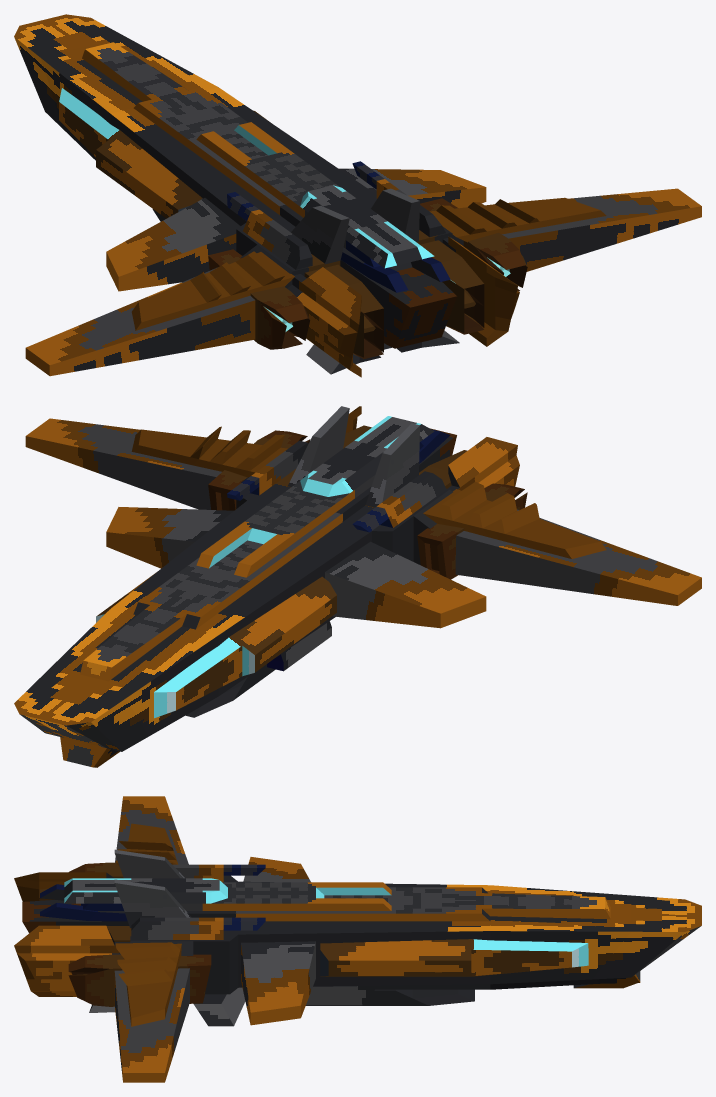
File: npcShip1.glb
3 renders of one model, top to bottom at view 1: azimuth 30°, elevation 25°; view 2: azimuth 150°, elevation 25°; view 3: azimuth 270°, elevation 25°, orthographic. The views are drawn at different scales.
Visible parts, largest first — view 1: body_16, wing 1_30, cuboid_3, wing 2_32, wing 3_31, cuboid_0, cuboid_20, cuboid_18, cuboid_21, cuboid_25, wing 4_33, cuboid_14 (+7 smaller); view 2: body_16, wing 1_30, cuboid_3, wing 3_31, cuboid_0, wing 2_32, cuboid_20, wing 4_33, cuboid_21, cuboid_18, cuboid_4, cuboid_25 (+5 smaller); view 3: body_16, cuboid_1, cuboid_3, wing 4_33, wing 2_32, cuboid_22, cuboid_21, cuboid_28, cuboid_5, cuboid_23, wing 1_30, cuboid_6 (+6 smaller).
Part boxes in pixels (<box>): body_16: <box>14,14,463,374</box>; wing 1_30: <box>25,267,255,376</box>; cuboid_3: <box>196,122,434,268</box>; wing 2_32: <box>502,188,701,271</box>; wing 3_31: <box>106,198,240,291</box>; cuboid_0: <box>59,88,202,218</box>; cuboid_20: <box>131,251,294,330</box>; cuboid_18: <box>287,267,361,377</box>; cuboid_21: <box>429,197,606,242</box>; cuboid_25: <box>208,249,310,349</box>; wing 4_33: <box>339,168,486,208</box>; cuboid_14: <box>420,240,484,334</box>; body_16: <box>14,428,456,767</box>; wing 1_30: <box>455,509,701,605</box>; cuboid_3: <box>196,416,434,577</box>; wing 3_31: <box>325,541,486,628</box>; cuboid_0: <box>154,576,336,718</box>; wing 2_32: <box>25,418,221,509</box>; cuboid_20: <box>423,481,606,558</box>; wing 4_33: <box>106,507,233,568</box>; cuboid_21: <box>131,426,287,477</box>; cuboid_18: <box>447,437,519,491</box>; cuboid_4: <box>366,423,419,507</box>; cuboid_25: <box>417,483,527,579</box>; body_16: <box>22,875,701,1026</box>; cuboid_1: <box>320,939,588,976</box>; cuboid_3: <box>64,878,391,910</box>; wing 4_33: <box>241,941,315,1025</box>; wing 2_32: <box>114,968,189,1082</box>; cuboid_22: <box>14,925,130,996</box>; cuboid_21: <box>115,942,181,1026</box>; cuboid_28: <box>68,954,211,1006</box>; cuboid_5: <box>305,986,474,1005</box>; cuboid_23: <box>131,917,265,939</box>; wing 1_30: <box>115,796,188,864</box>; cuboid_6: <box>114,879,191,927</box>.
Size of the model in its own units: 14.63 by 3.11 by 15.38.
1 material, 1 textured.
